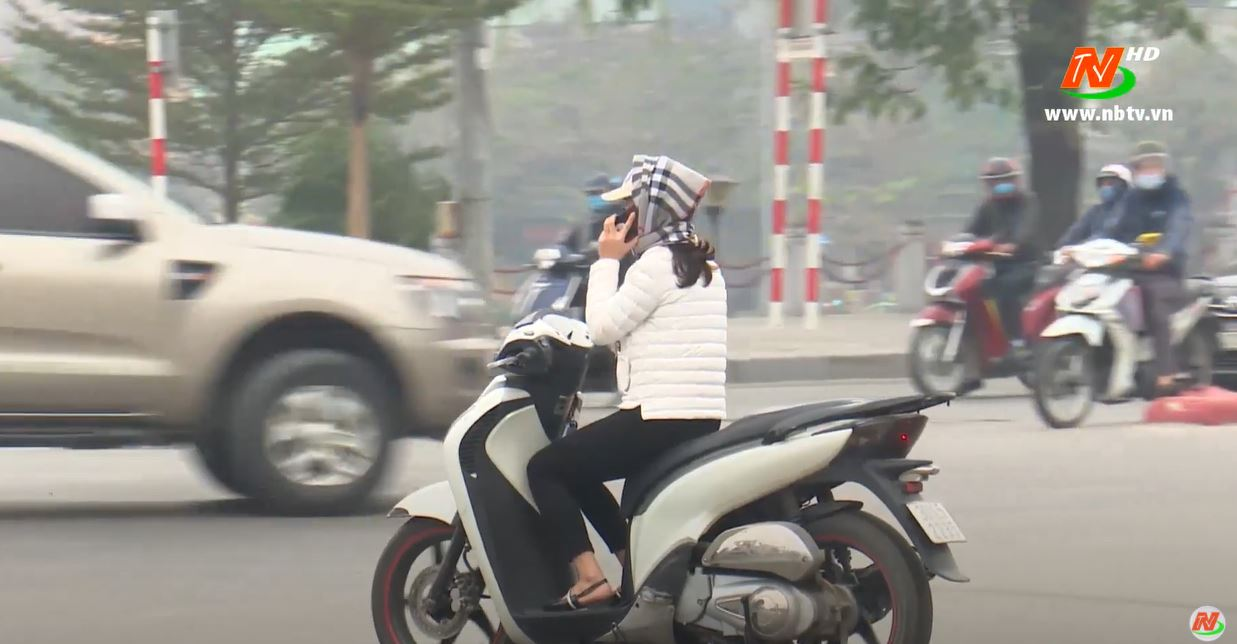dieu khien xe may: (440, 151, 718, 591)
su dung dien thoai: (595, 155, 705, 284)
